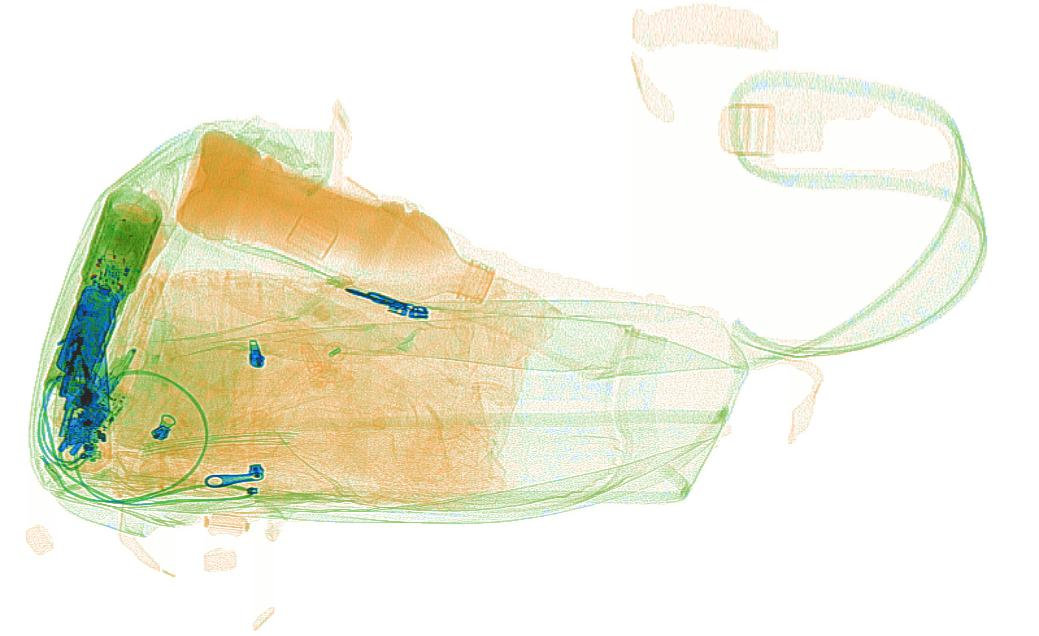battery: (54, 284, 118, 384)
